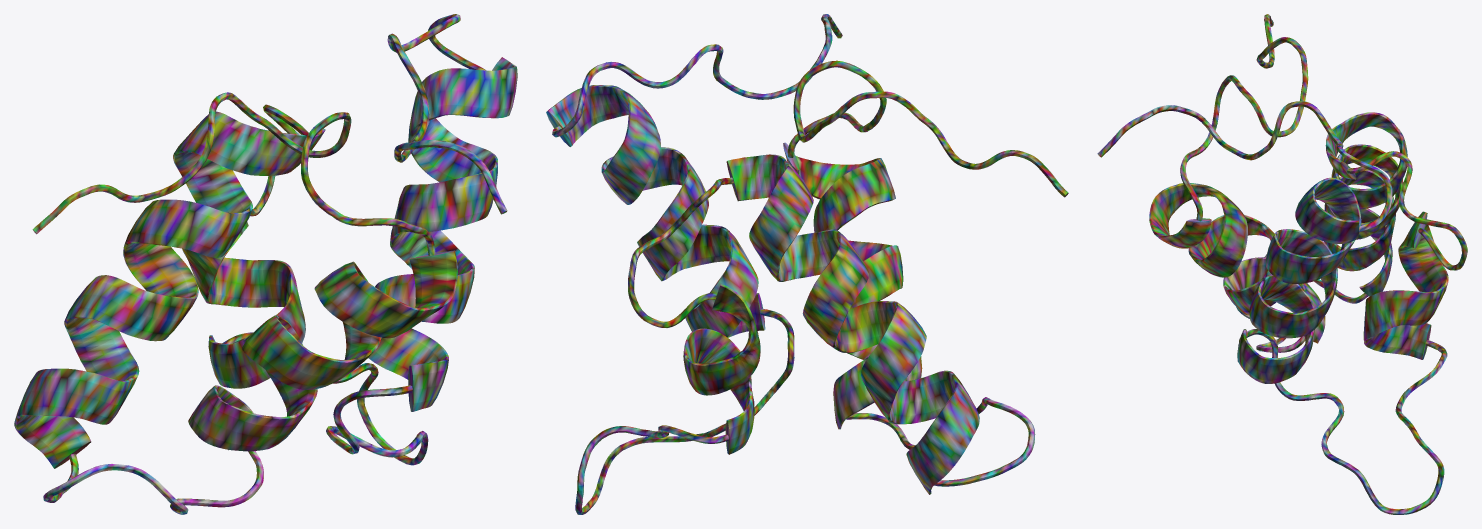
3 views of the same model, side by side, from view 1: azimuth 30°, elevation 25°; view 2: azimuth 150°, elevation 25°; view 3: azimuth 270°, elevation 25° (orthographic). The views are drawn at different scales.
Bounding box in the file's own units: 32.79 × 29.05 × 25.24.
